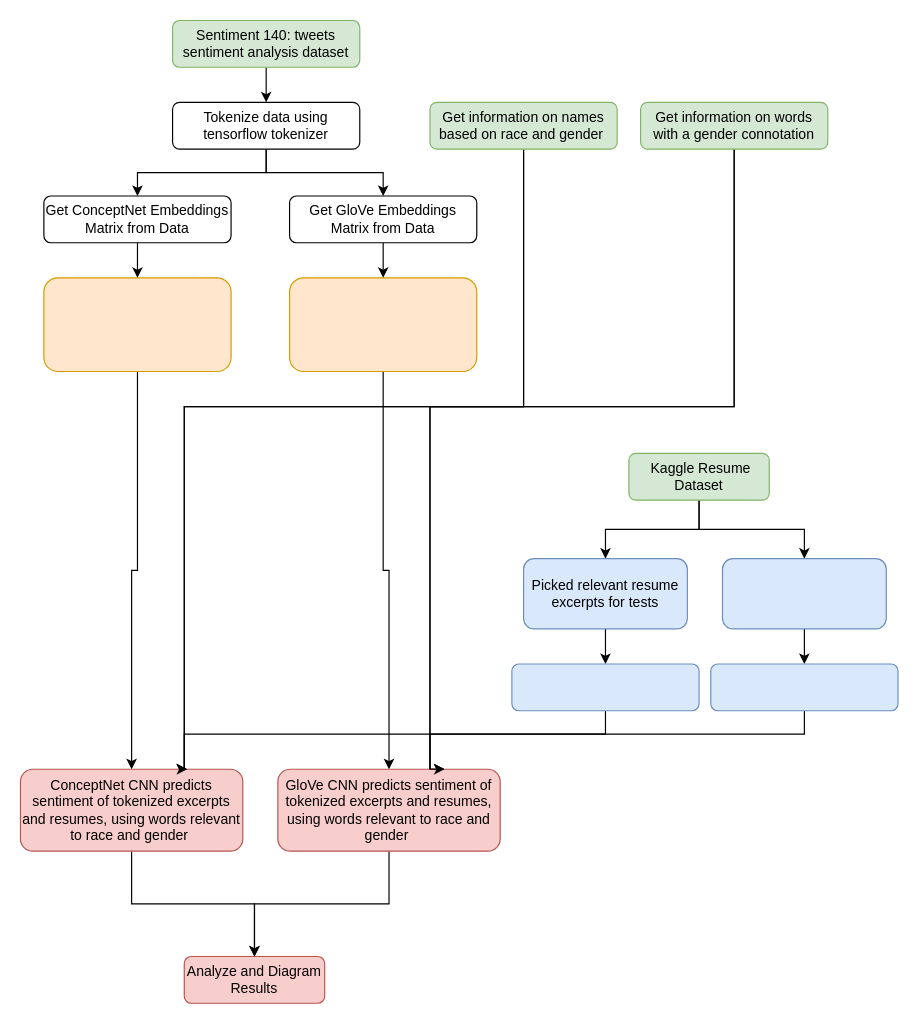
Image size: 918x1024. Some labels were removed from this diagram. Here are the shapes that lost their labels. From the top down, the centre of each, then its label:
point 137,324: 1 Dimensional CNN trained using conceptNet embeddings on Sentiment 140
point 382,324: 1 Dimensional CNN trained using GloVe embeddings on Sentiment 140
point 803,593: Picked relevant whole resumes for tests
point 605,687: Tokenize excerpts using tensorflow tokenizer
point 804,687: Tokenize resume text using tensorflow tokenizer
